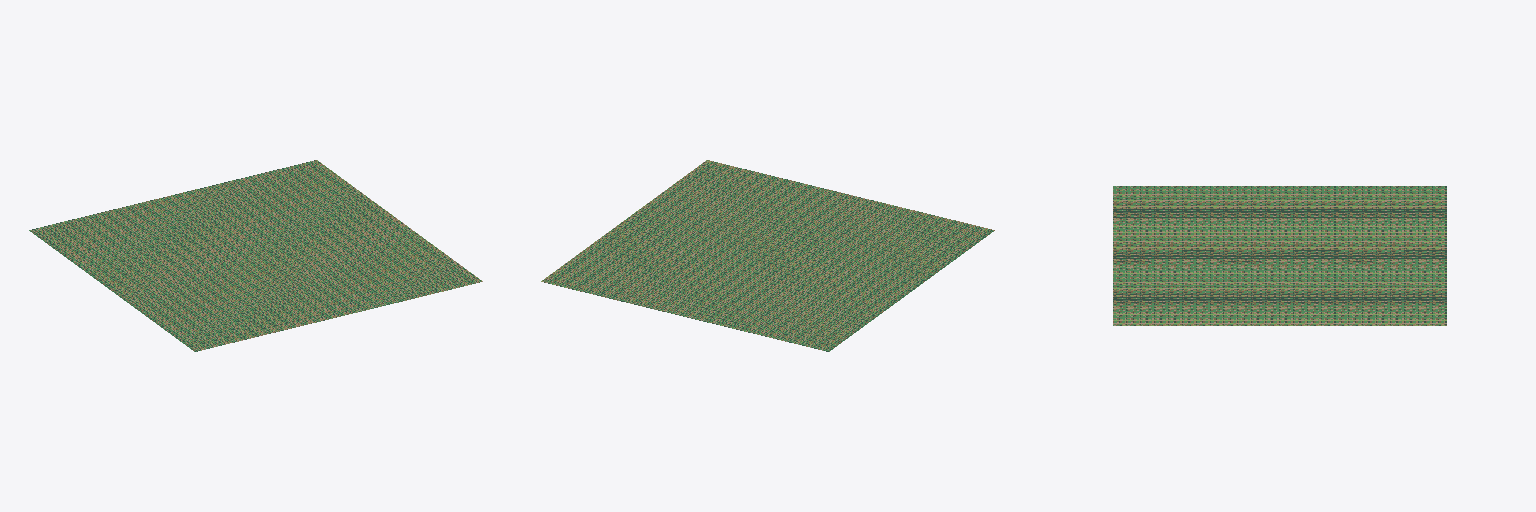
3 renders of one model, left to right at view 1: azimuth 30°, elevation 25°; view 2: azimuth 150°, elevation 25°; view 3: azimuth 270°, elevation 25°, orthographic.
Parts seen in each view (by area): view 1: Default; view 2: Default; view 3: Default.
Boxes of the visible parts, box(x1,y1,x2,y2) form: Default: box(29, 160, 482, 351); Default: box(541, 160, 994, 351); Default: box(1113, 186, 1446, 325).
Bounding box in the file's own units: 96 × 0.0034 × 96.
Materials: 1 (1 with a texture image).